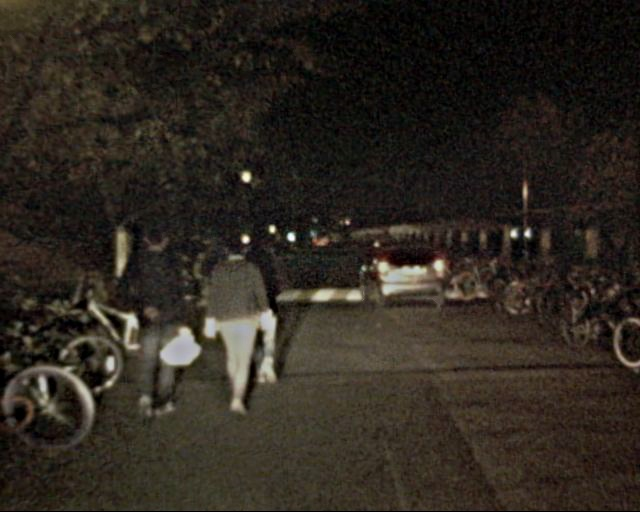person: (114, 220, 194, 423), (198, 235, 274, 418), (232, 225, 290, 355), (189, 226, 230, 323)
